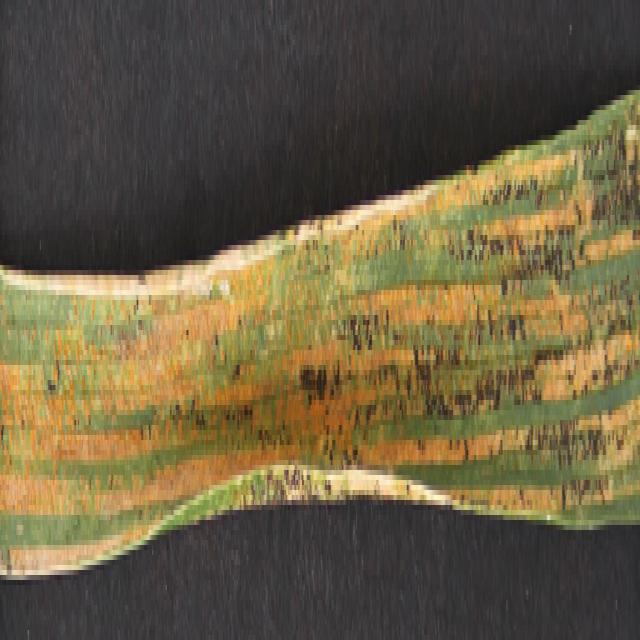leaf rust: (0, 105, 640, 580)
